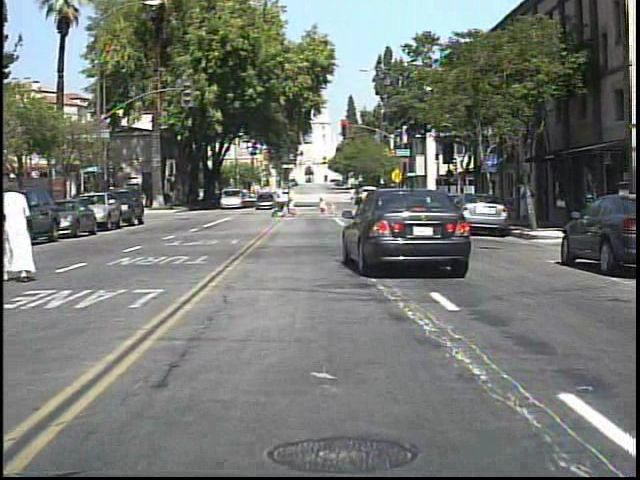person: (11, 183, 49, 285), (516, 175, 540, 229), (287, 183, 304, 221)
